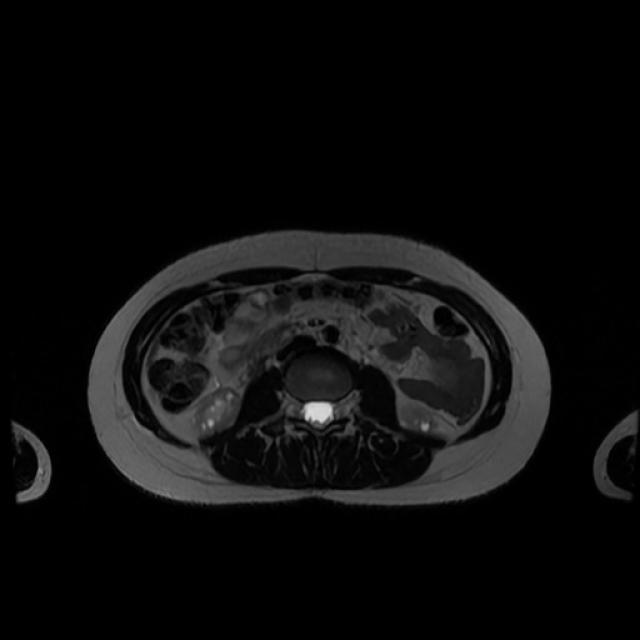sag: (193, 386, 242, 440)
sol: (399, 396, 441, 436)
